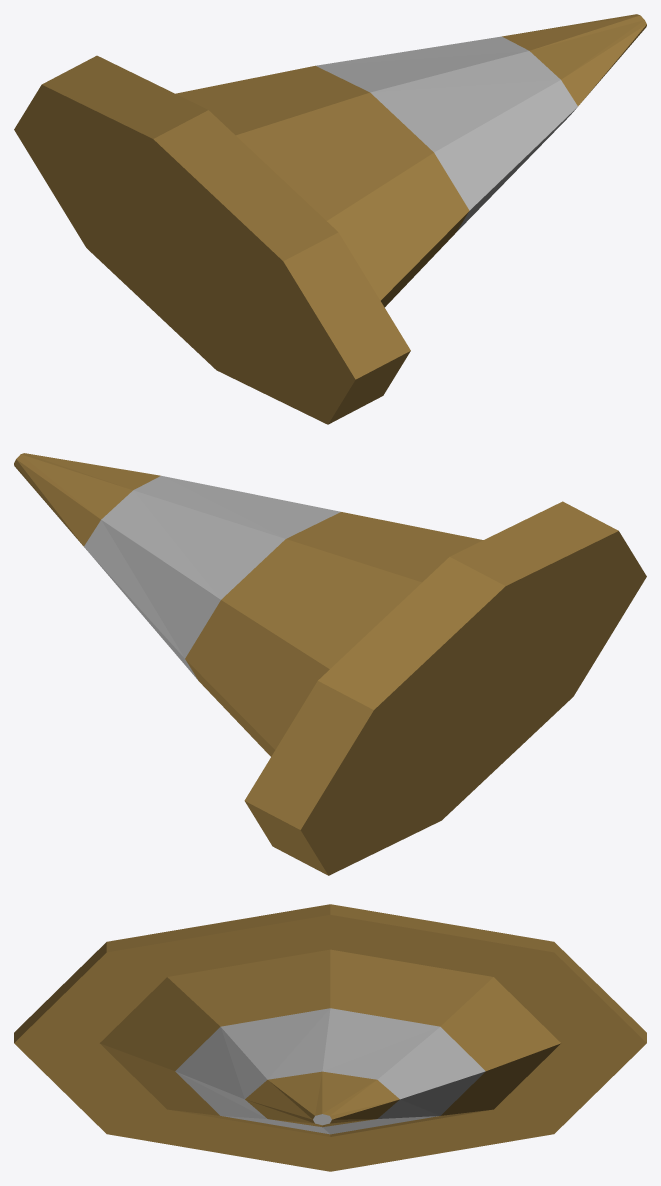
The model's file is Traffic Cone Squished Colored.fbx.
3 views of the same model, one above another, from view 1: azimuth 30°, elevation 25°; view 2: azimuth 150°, elevation 25°; view 3: azimuth 270°, elevation 25° (orthographic). The views are drawn at different scales.
Parts seen in each view (by area): view 1: pasted__pCylinder7; view 2: pasted__pCylinder7; view 3: pasted__pCylinder7.
Part boxes in pixels (bbox=[...]): pasted__pCylinder7: bbox=[14, 14, 646, 424]; pasted__pCylinder7: bbox=[14, 453, 646, 875]; pasted__pCylinder7: bbox=[14, 904, 646, 1171].
Bounding box in the file's own units: 1.64 × 0.8466 × 2.
